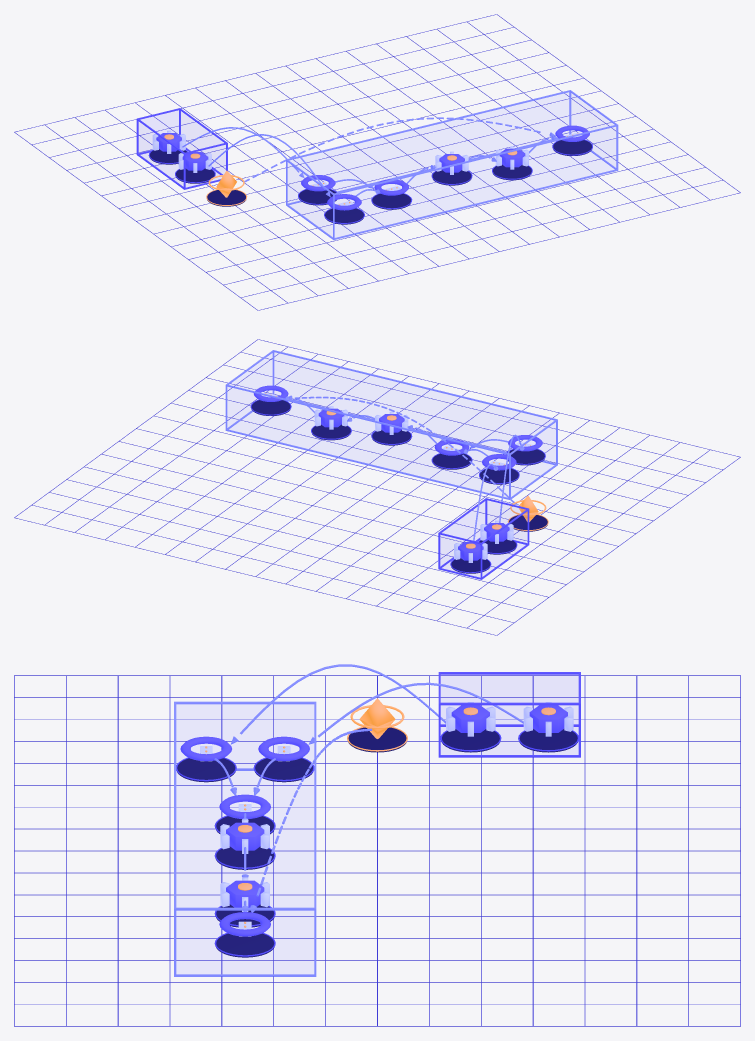
The model's file is linux-networking.glb.
The picture shows the model from 3 angles, top to bottom: view 1: azimuth 30°, elevation 25°; view 2: azimuth 150°, elevation 25°; view 3: azimuth 270°, elevation 25°; orthographic projection. The views are drawn at different scales.
Visible parts, largest first — view 1: floor, group_Host, group_Namespaces, link_vrrp_uplink, mesh_bridge_pad, mesh_uplink_pad, mesh_vrrp_pad, mesh_veth_b_pad; view 2: floor, group_Host, group_Namespaces, mesh_uplink_pad, mesh_bridge_pad; view 3: floor, group_Host, group_Namespaces, mesh_uplink_pad, mesh_veth_b_pad, mesh_veth_a_pad, mesh_vrrp_pad, mesh_ns_a_pad, mesh_ns_b_pad, mesh_route_pad, mesh_uplink_ring, mesh_veth_a_ring (+9 smaller).
Boxes of the visible parts, x1,y1,x2,y2 form: floor: (14, 14, 740, 310); group_Host: (286, 90, 618, 240); group_Namespaces: (136, 108, 227, 189); link_vrrp_uplink: (244, 117, 555, 182); mesh_bridge_pad: (372, 193, 410, 209); mesh_uplink_pad: (553, 140, 591, 156); mesh_vrrp_pad: (207, 190, 245, 206); mesh_veth_b_pad: (325, 208, 363, 224); floor: (14, 339, 740, 635); group_Host: (225, 350, 557, 499); group_Namespaces: (438, 498, 529, 579); mesh_uplink_pad: (251, 400, 290, 416); mesh_bridge_pad: (432, 453, 471, 469); floor: (14, 675, 740, 1026); group_Host: (174, 701, 316, 976); group_Namespaces: (438, 672, 580, 757); mesh_uplink_pad: (216, 933, 274, 957); mesh_veth_b_pad: (177, 758, 235, 782); mesh_veth_a_pad: (255, 758, 312, 782); mesh_vrrp_pad: (348, 727, 406, 752); mesh_ns_a_pad: (519, 729, 577, 752); mesh_ns_b_pad: (441, 729, 499, 752); mesh_route_pad: (216, 846, 274, 869); mesh_uplink_ring: (219, 912, 270, 936); mesh_veth_a_ring: (258, 736, 309, 761).
Bounding box in the file's own units: 32.03 × 4.22 × 28.03.
